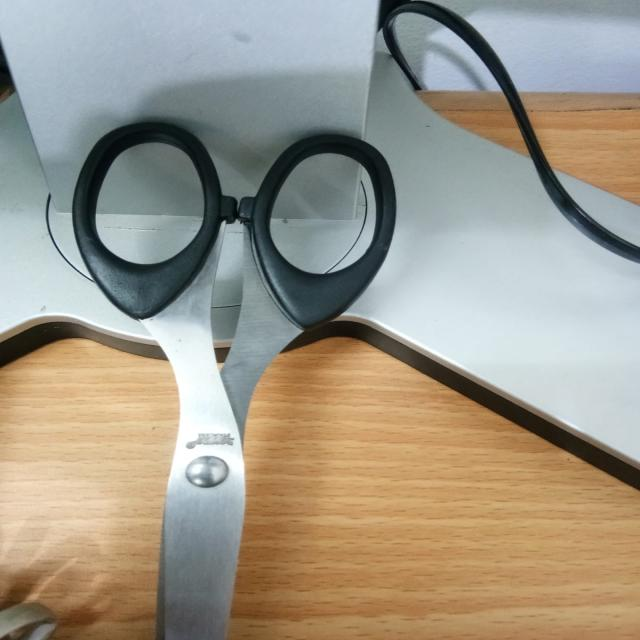scissor: (59, 91, 393, 640)
